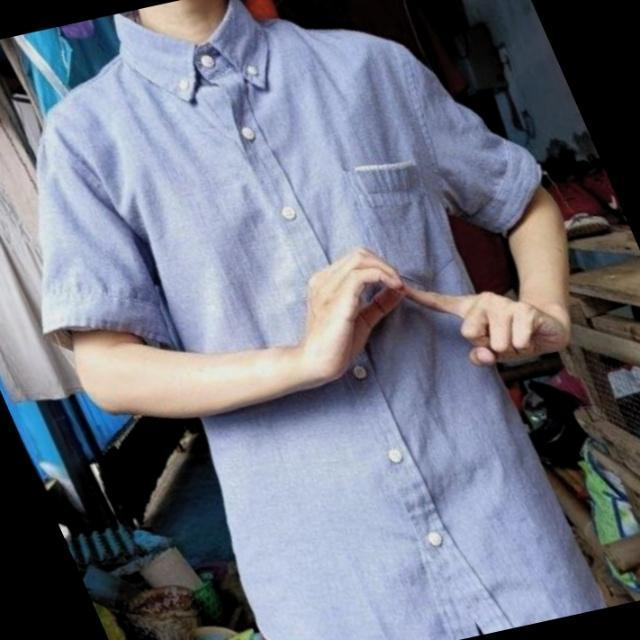Q: (299, 244, 571, 386)
